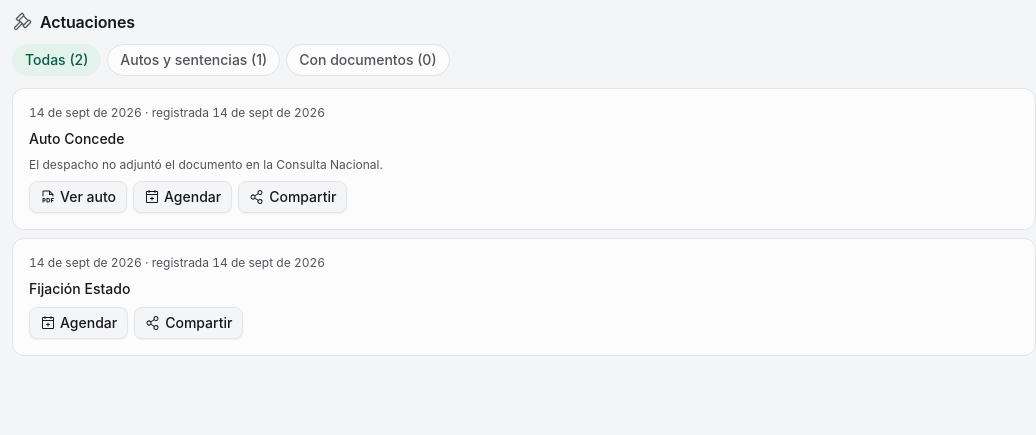
it: Ver auto en las actuaciones › muestra el error del servidor y permite reintentar
Click the button "Ver auto". click: (78, 197)
box: [29,181,127,213]
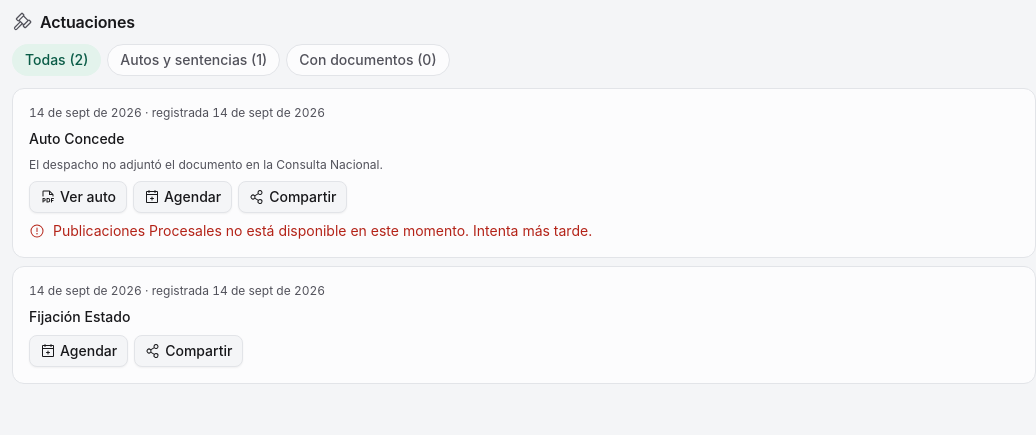
Expected: the message shows "Publicaciones Procesales no está disponible", [53,222,592,239]
Click the button "Ver auto". click: (78, 197)
box: [29,181,127,213]
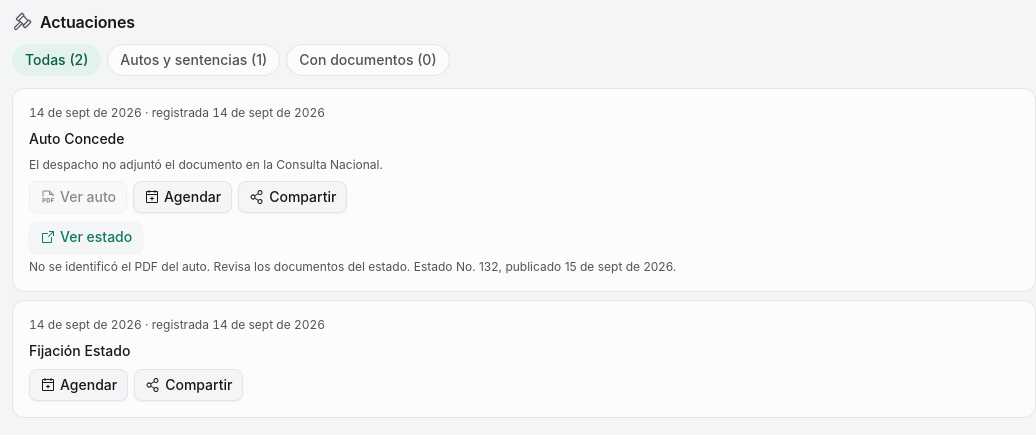
Expected: the message "Publicaciones Procesales no está disponible en este momento. Intenta más tarde." is gone
